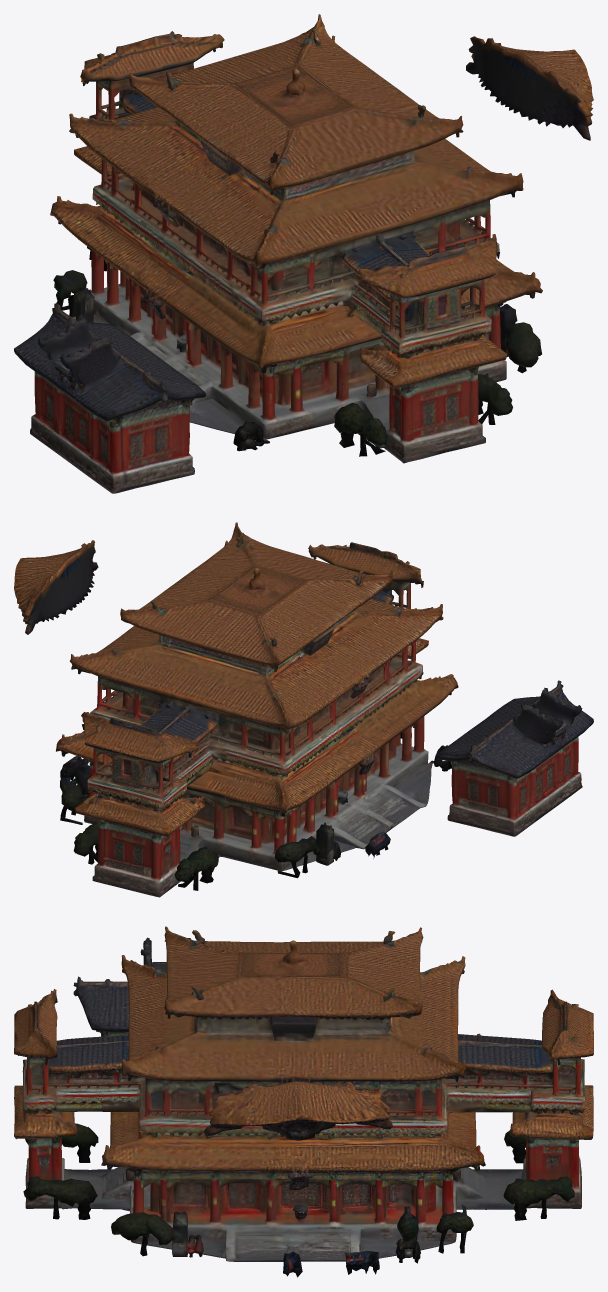
File: detail.glb
3 views of the same model, one above another, from view 1: azimuth 30°, elevation 25°; view 2: azimuth 150°, elevation 25°; view 3: azimuth 270°, elevation 25° (orthographic). The views are drawn at different scales.
Parts seen in each view (by area): view 1: yonghe/tripo_node_2865891e-e849-4786-ae23-ae4583ae8609; view 2: yonghe/tripo_node_2865891e-e849-4786-ae23-ae4583ae8609; view 3: yonghe/tripo_node_2865891e-e849-4786-ae23-ae4583ae8609.
Boxes of the visible parts, x1,y1,x2,y2 form: yonghe/tripo_node_2865891e-e849-4786-ae23-ae4583ae8609: (14, 14, 593, 493); yonghe/tripo_node_2865891e-e849-4786-ae23-ae4583ae8609: (14, 522, 593, 897); yonghe/tripo_node_2865891e-e849-4786-ae23-ae4583ae8609: (14, 926, 593, 1277).
Bounding box in the file's own units: 0.6808 × 0.3 × 0.6293.
1 material, 1 textured.
